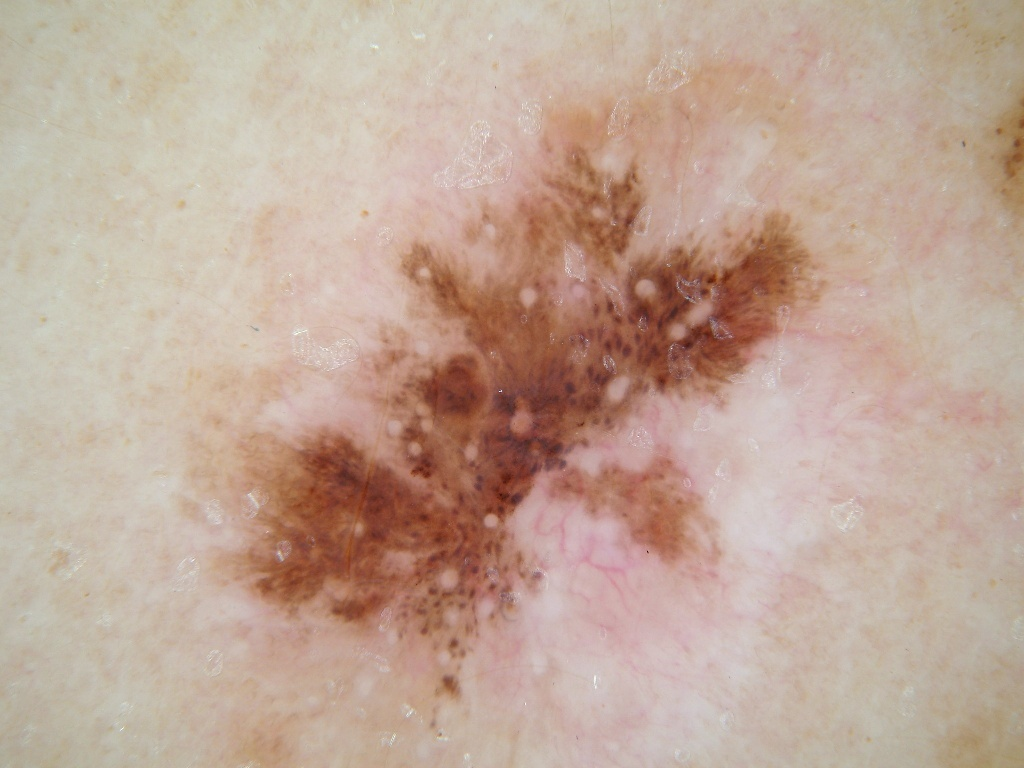Detected Lesion: (194, 94, 821, 738)
